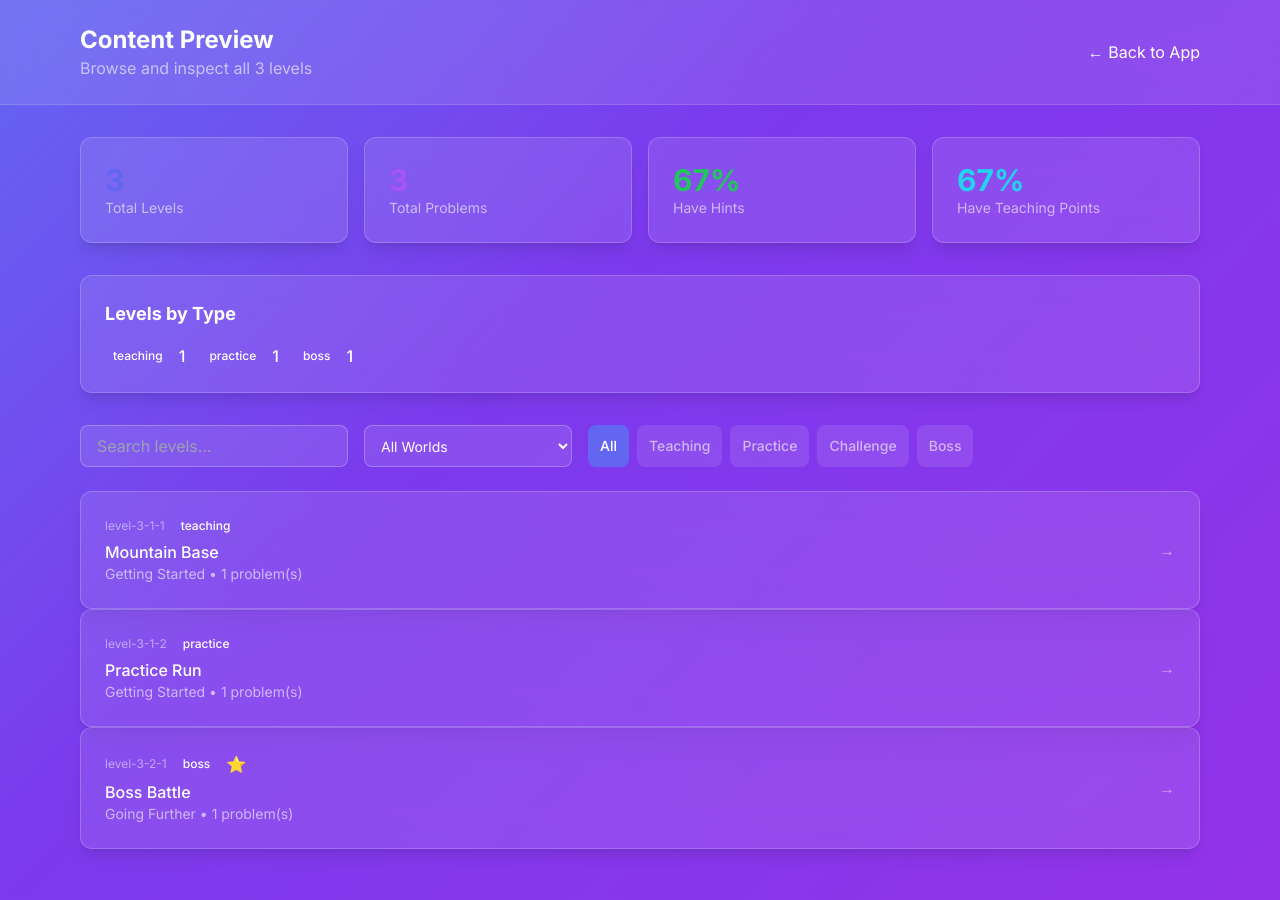
Scenario: AdminPage › should filter by teaching type
Step 1. Click the button "Teaching" → x=680, y=446, box 637,425 -> 722,467
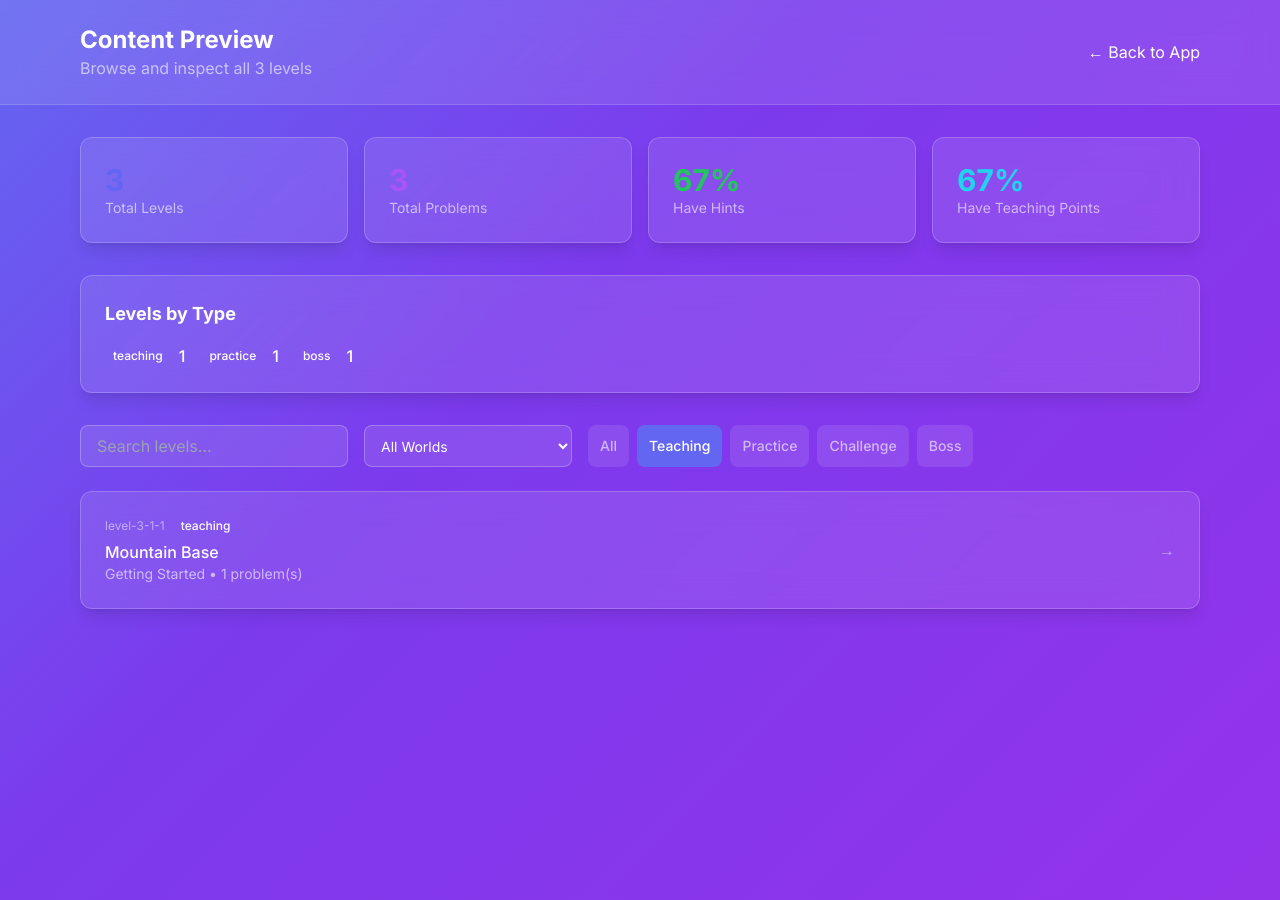
Expected: the heading "Mountain Base" is shown, 105,542 -> 219,562
Expected: the link "Boss Battle" is gone
